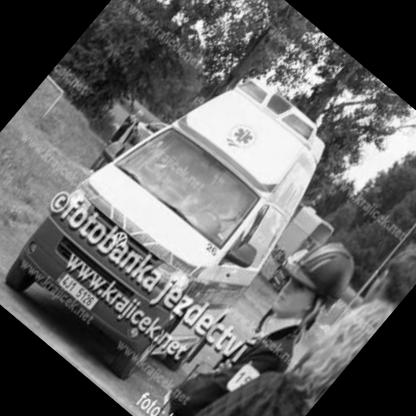ambulance: (1, 17, 368, 408)
